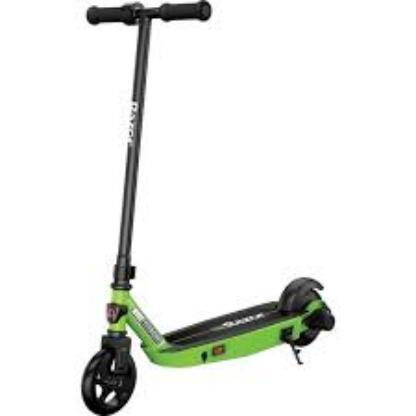bike: (79, 2, 335, 416)
